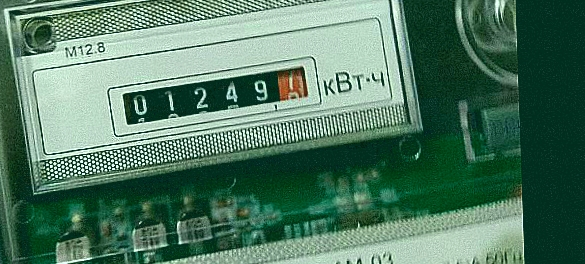0: (129, 88, 149, 115)
1: (161, 86, 176, 112)
2: (191, 83, 211, 110)
4: (222, 76, 241, 104)
7: (282, 66, 298, 91)
9: (251, 75, 270, 101)
screen: (100, 57, 335, 140)
